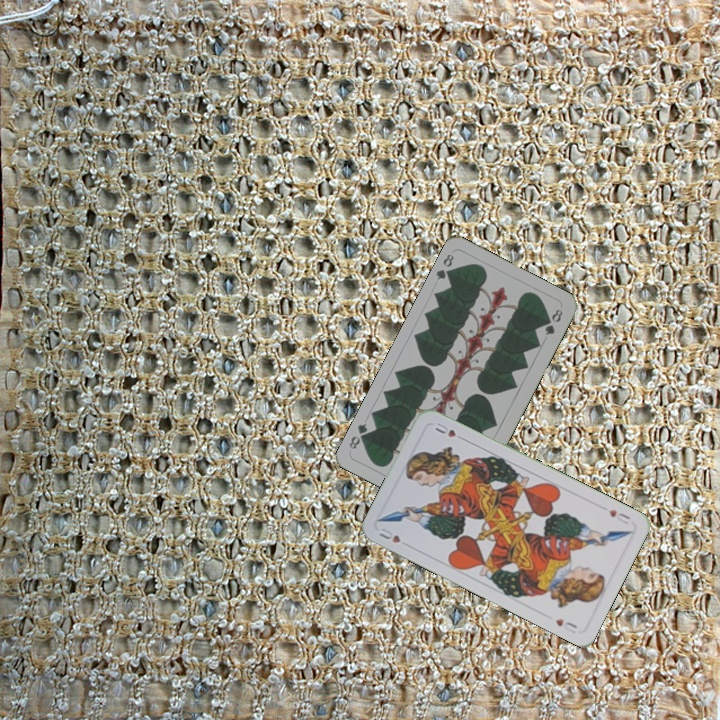G8: (432, 250, 457, 283)
HU: (604, 505, 633, 528), (375, 524, 403, 546)
